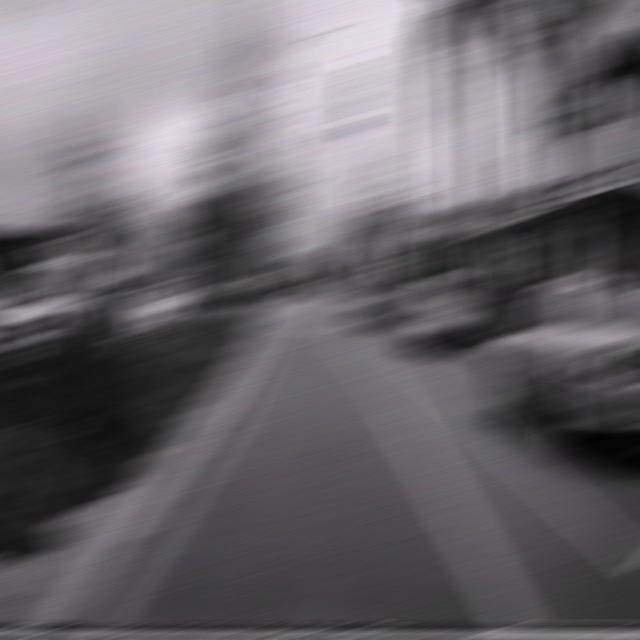pedestrianCrossing: (371, 219, 408, 254)
